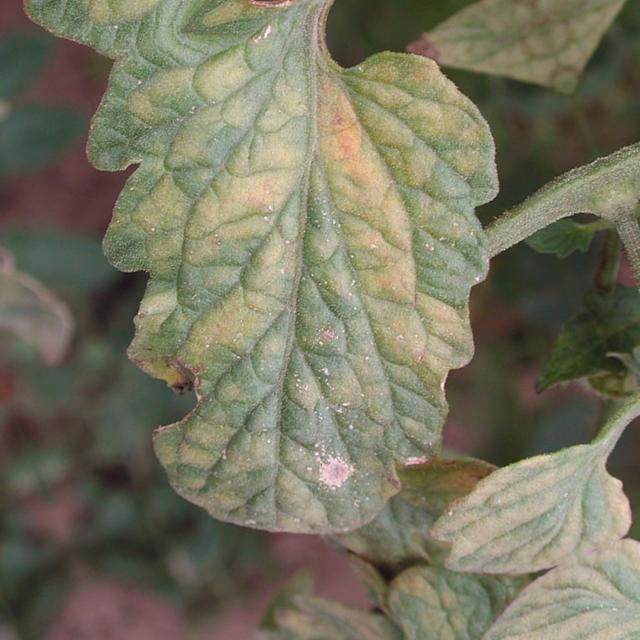Tomato mold leaf: (0, 0, 619, 613), (390, 416, 640, 615)
